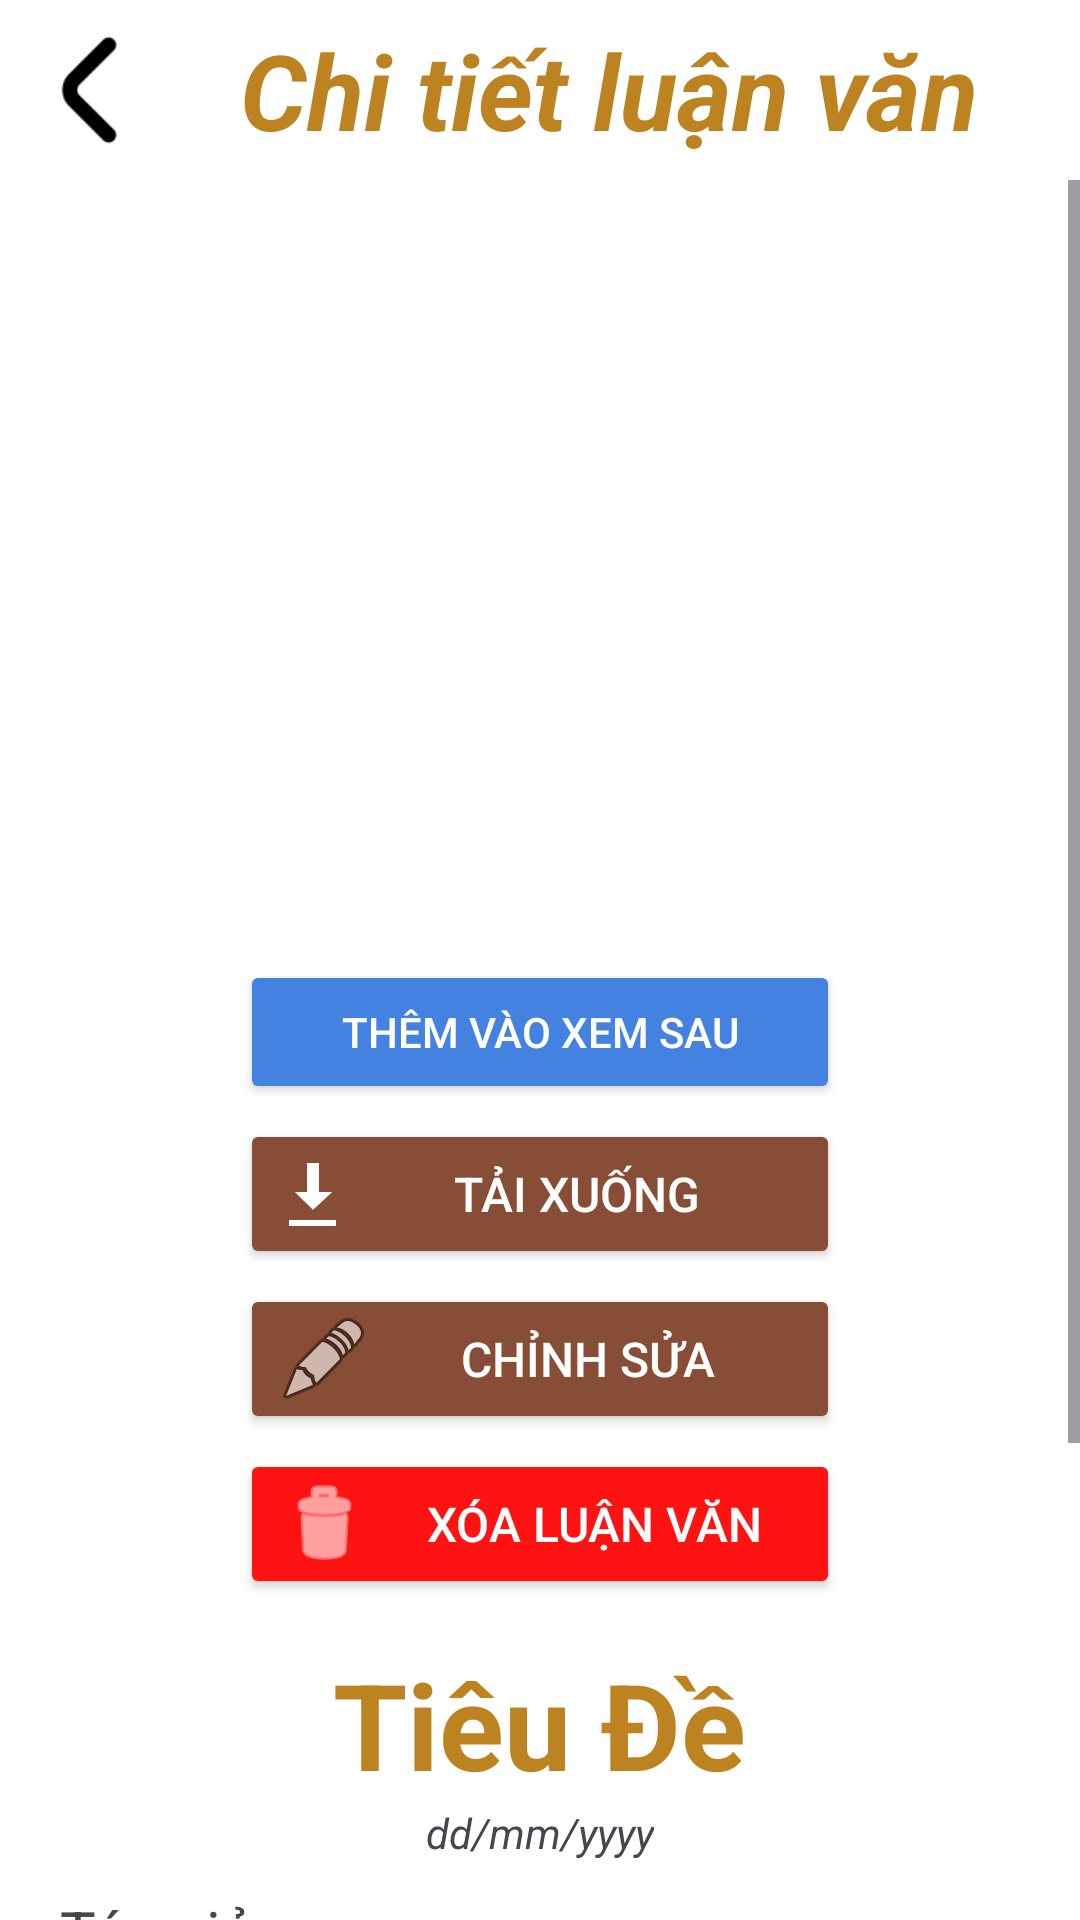

Icon bounding boxes for this 1080px×1920px phone screenshot, format (x1, y1, x2, y2):
angle left: (61, 36, 117, 144)
